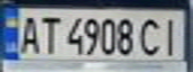0: (100, 15, 118, 56)
4: (63, 14, 84, 54)
8: (115, 15, 139, 56)
9: (81, 14, 100, 56)
A: (15, 12, 42, 55)
C: (136, 15, 166, 56)
I: (157, 15, 184, 56)
T: (36, 12, 60, 55)
